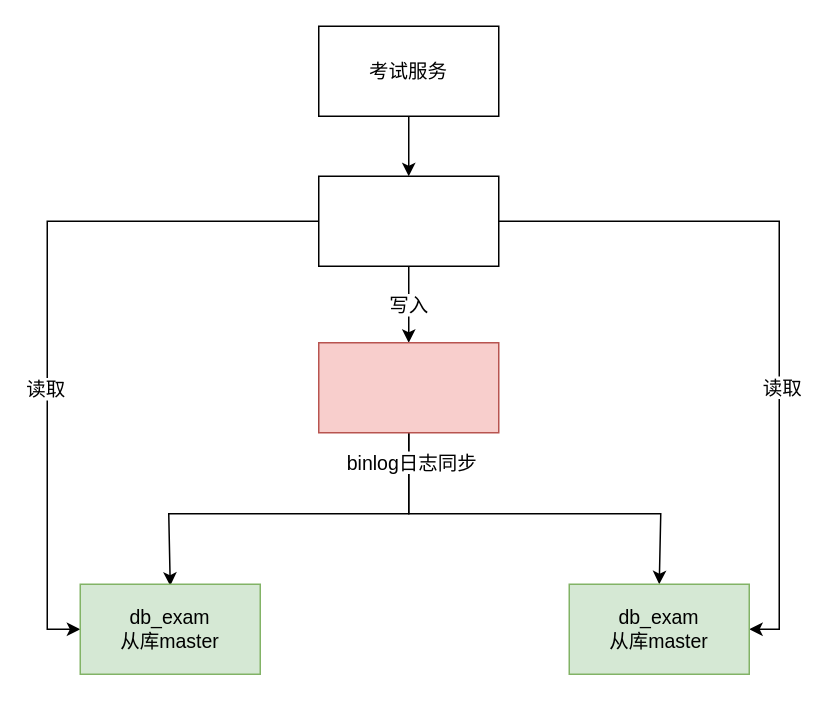
This 827x701 diagram has some shape labels left out. Each missing label, with the box of its shape:
db_exam 主库master: (317, 341, 499, 433)
分片中间件 ShardingSphere: (317, 175, 499, 266)
